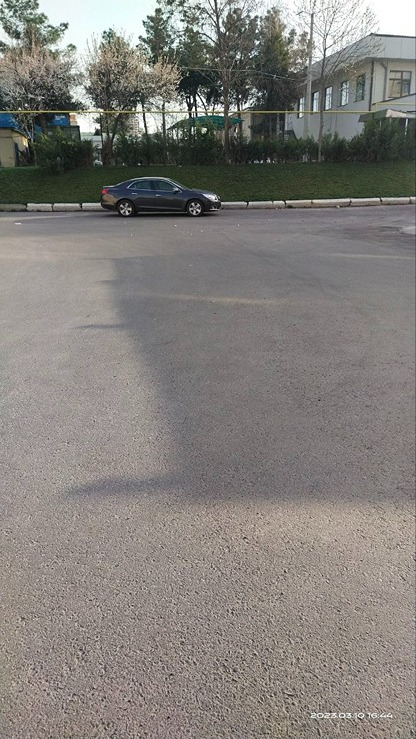car: (92, 168, 233, 219)
tree: (295, 0, 375, 149), (81, 32, 160, 154), (0, 28, 69, 163), (249, 0, 303, 149), (153, 0, 209, 128), (199, 0, 235, 140)
